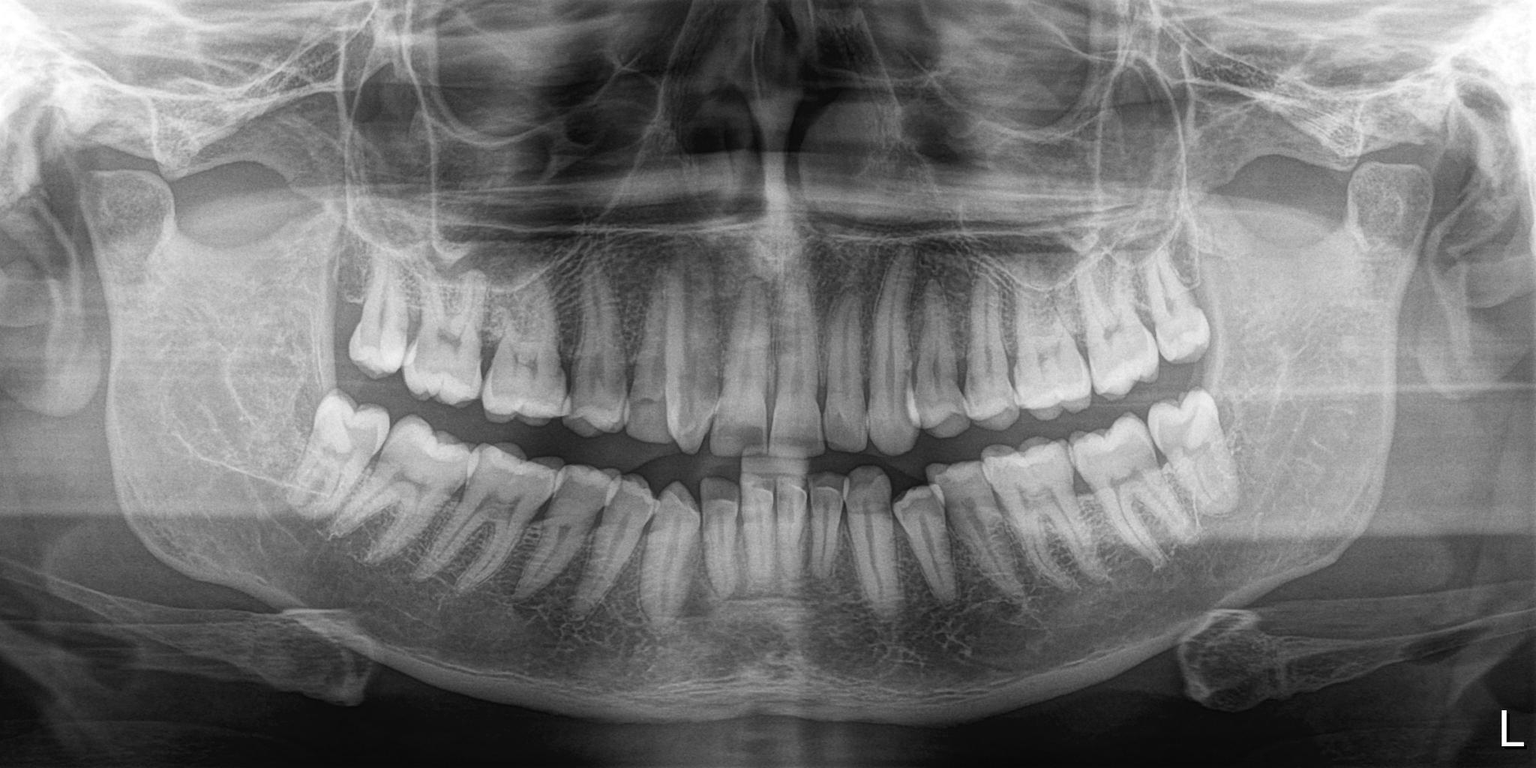Dental Caries: (703, 412, 778, 457)
